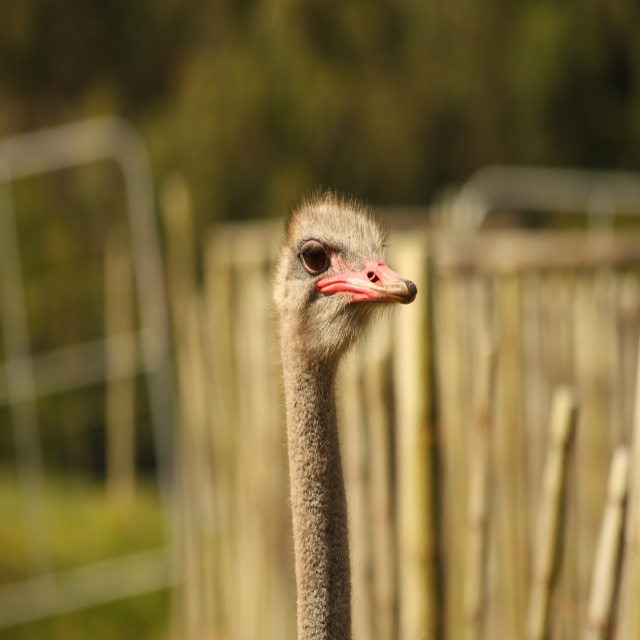Ostrich: (274, 190, 420, 639)
